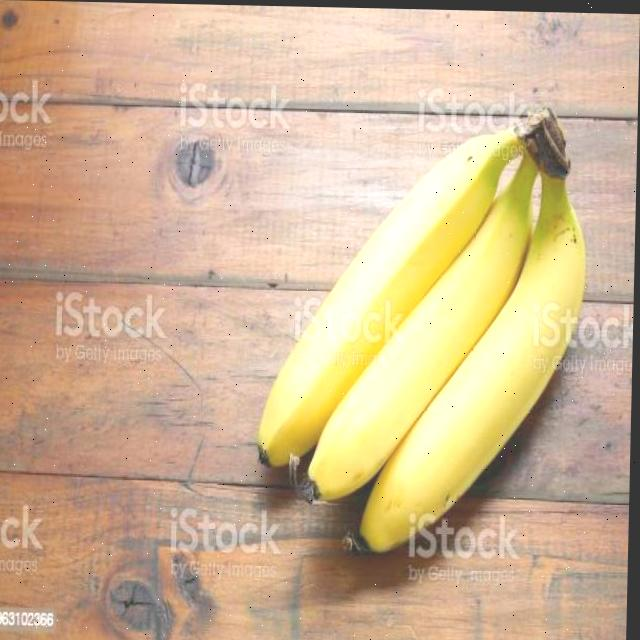banana: (251, 86, 595, 567)
